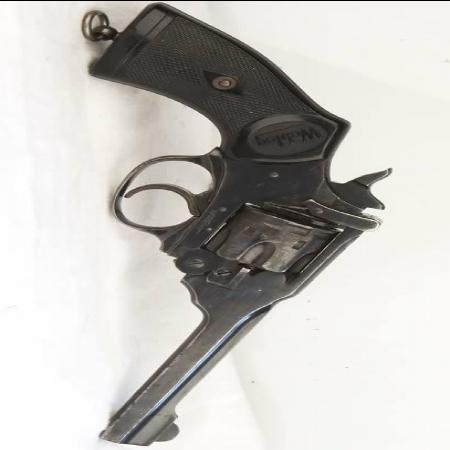Pistol: (99, 1, 397, 446)
